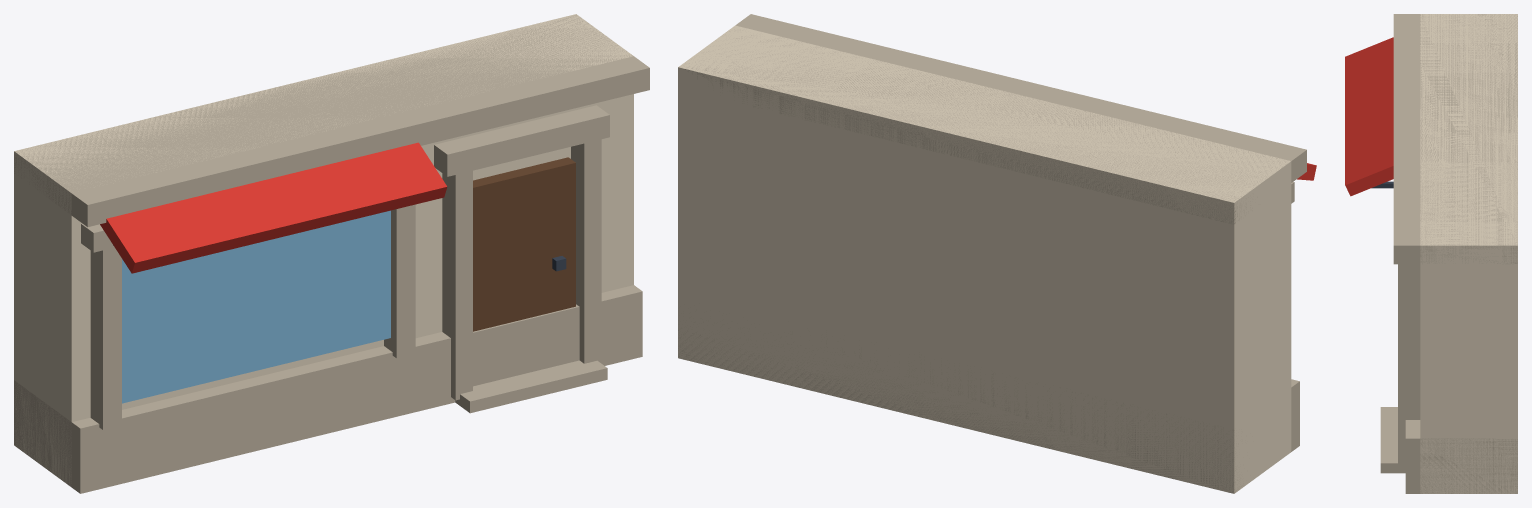
Rendered from cittaVecchiaBase.glb.
3 renders of one model, left to right at view 1: azimuth 30°, elevation 25°; view 2: azimuth 150°, elevation 25°; view 3: azimuth 270°, elevation 25°, orthographic. The views are drawn at different scales.
Visible parts, largest first — view 1: cittaVecchiaBase_stone, cittaVecchiaBase_plaster, cittaVecchiaBase_glass, cittaVecchiaBase_red, cittaVecchiaBase_bark; view 2: cittaVecchiaBase_plaster, cittaVecchiaBase_stone; view 3: cittaVecchiaBase_plaster, cittaVecchiaBase_stone, cittaVecchiaBase_red.
Part boxes in pixels (bbox=[...]): cittaVecchiaBase_stone: bbox=[14, 14, 649, 493]; cittaVecchiaBase_plaster: bbox=[14, 14, 633, 485]; cittaVecchiaBase_glass: bbox=[122, 210, 390, 403]; cittaVecchiaBase_red: bbox=[100, 142, 447, 273]; cittaVecchiaBase_bark: bbox=[473, 157, 575, 331]; cittaVecchiaBase_plaster: bbox=[678, 25, 1291, 493]; cittaVecchiaBase_stone: bbox=[678, 14, 1306, 492]; cittaVecchiaBase_plaster: bbox=[1420, 14, 1517, 493]; cittaVecchiaBase_stone: bbox=[1380, 14, 1517, 493]; cittaVecchiaBase_red: bbox=[1345, 37, 1393, 196].
Size of the model in its own units: 9 by 4.5 by 2.84.
